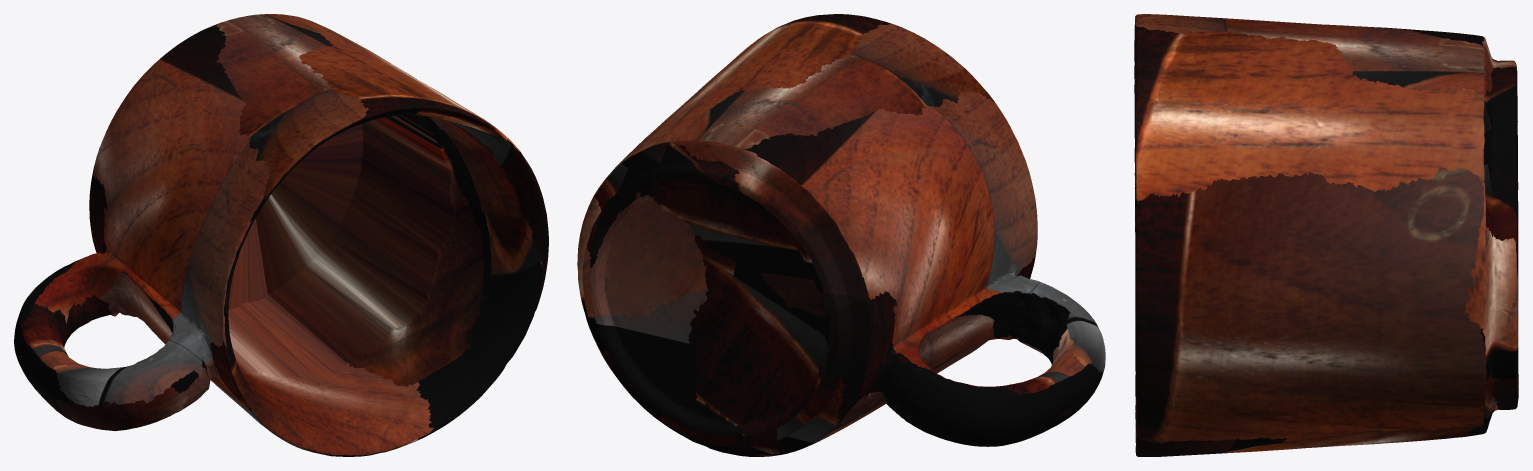
3 renders of one model, left to right at view 1: azimuth 30°, elevation 25°; view 2: azimuth 150°, elevation 25°; view 3: azimuth 270°, elevation 25°, orthographic. The views are drawn at different scales.
Parts seen in each view (by area): view 1: 20200901_4_beizi3; view 2: 20200901_4_beizi3; view 3: 20200901_4_beizi3.
Boxes of the visible parts, x1,y1,x2,y2 form: 20200901_4_beizi3: (14, 14, 548, 456); 20200901_4_beizi3: (577, 14, 1105, 456); 20200901_4_beizi3: (1134, 14, 1518, 456).
Bounding box in the file's own units: 107 × 79.58 × 69.23.
